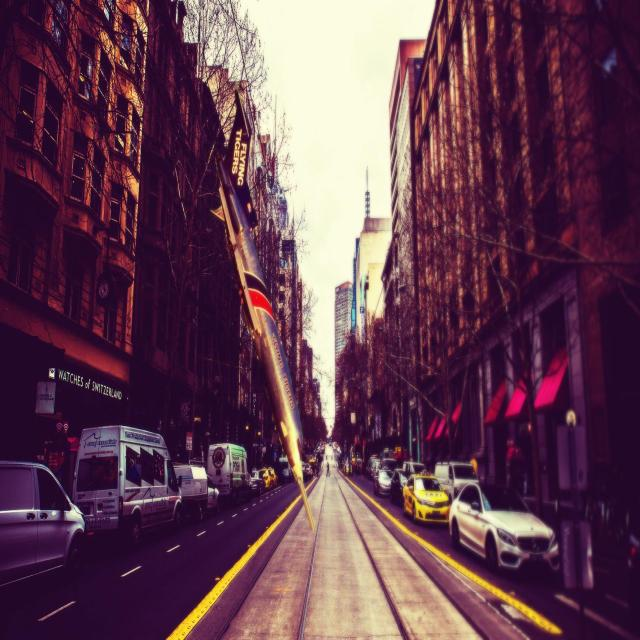airplane: (209, 87, 316, 532)
